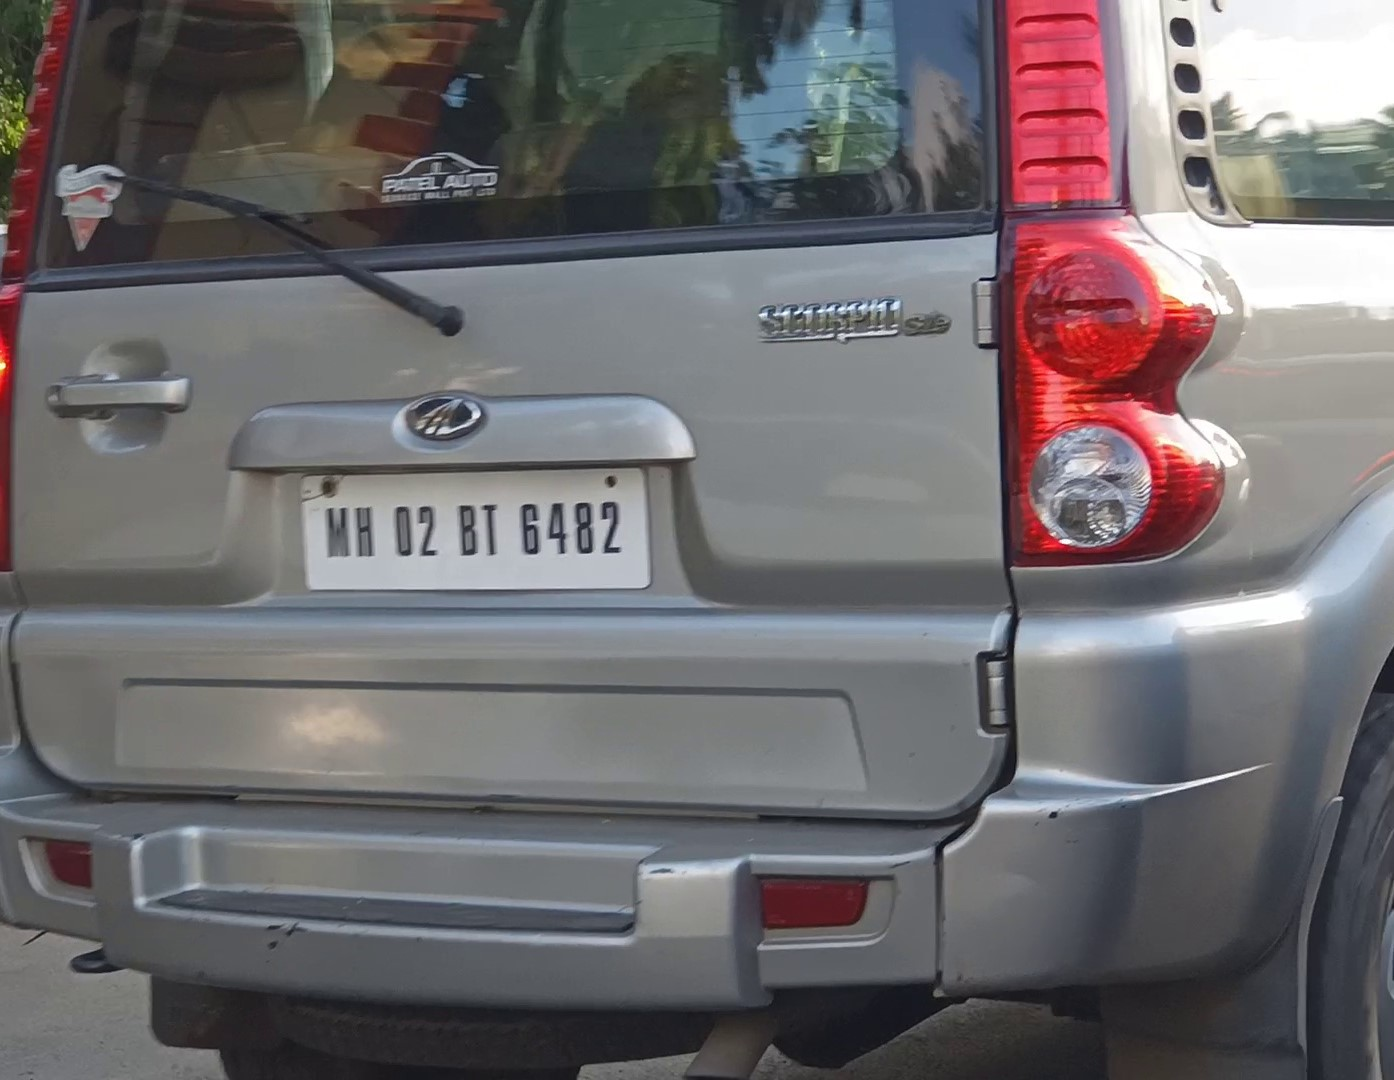MH02BT6482: (301, 470, 651, 589)
